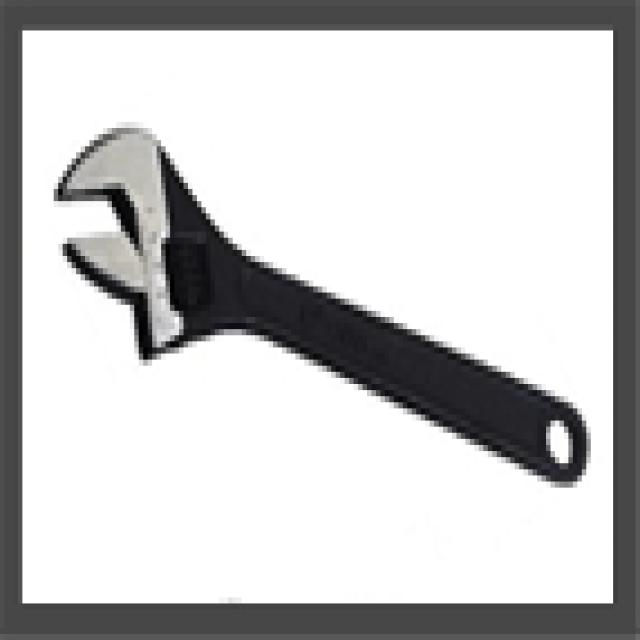wrench: (26, 61, 604, 513)
